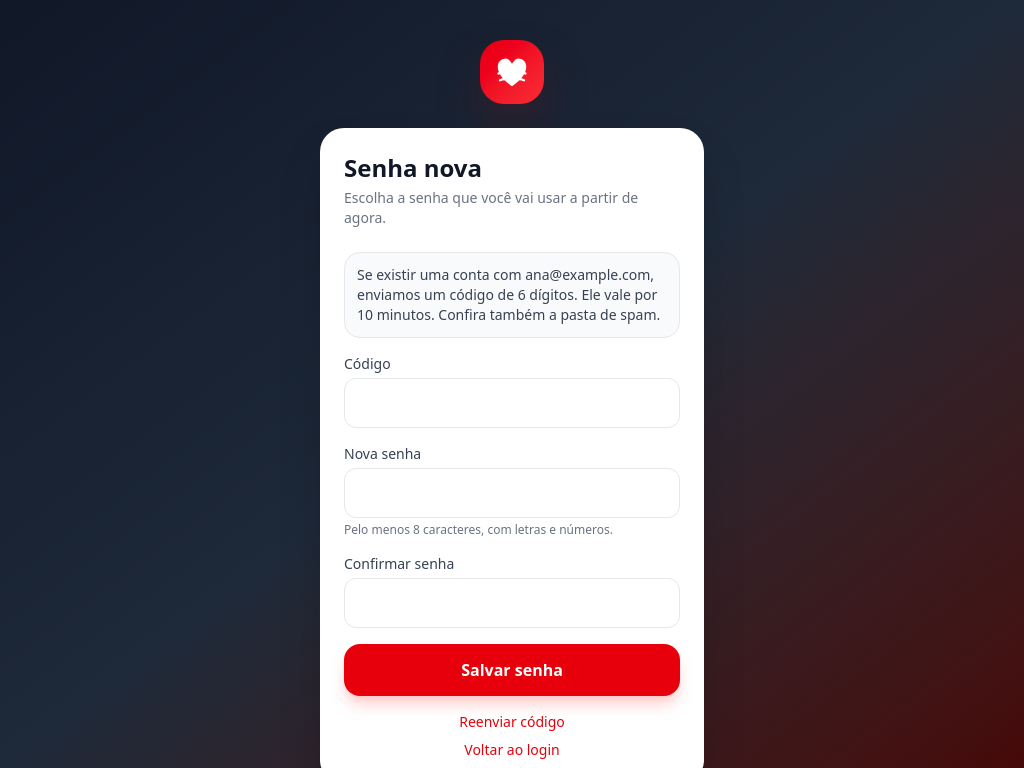
Test case: ResetPasswordPage › reenvia o código para o mesmo e-mail
Click the button "Reenviar código" at (512, 722), box left=459, top=712, right=565, bottom=732
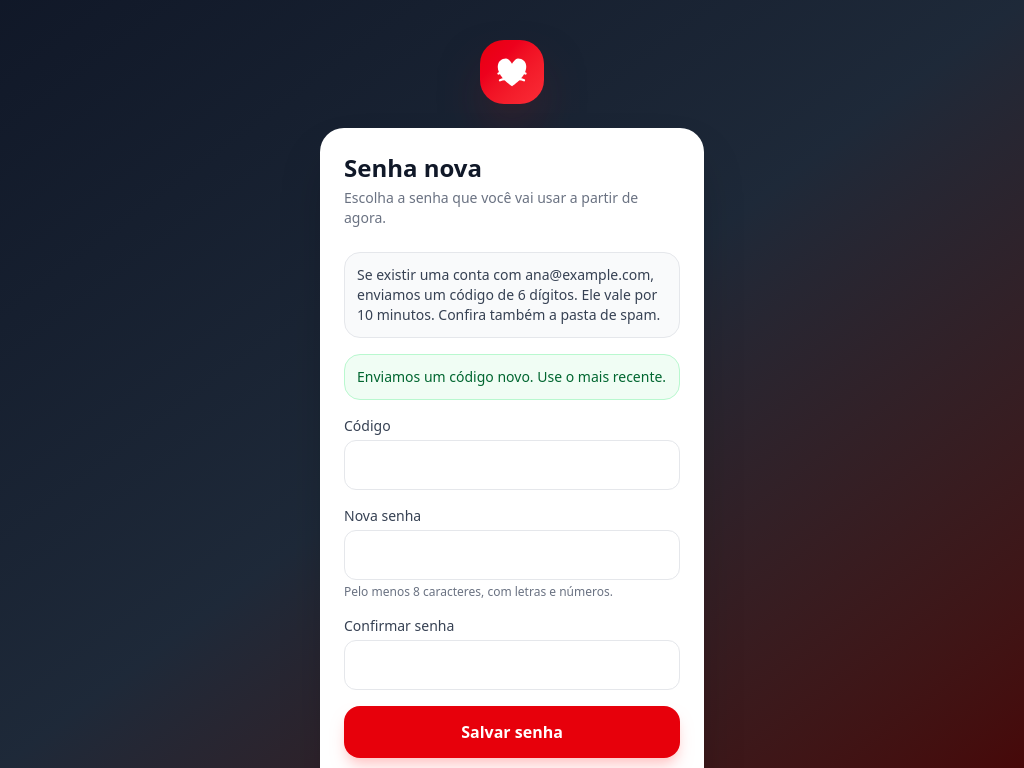
Result: the text "Enviamos um código novo. Use o mais recente." is shown at left=344, top=354, right=680, bottom=400
